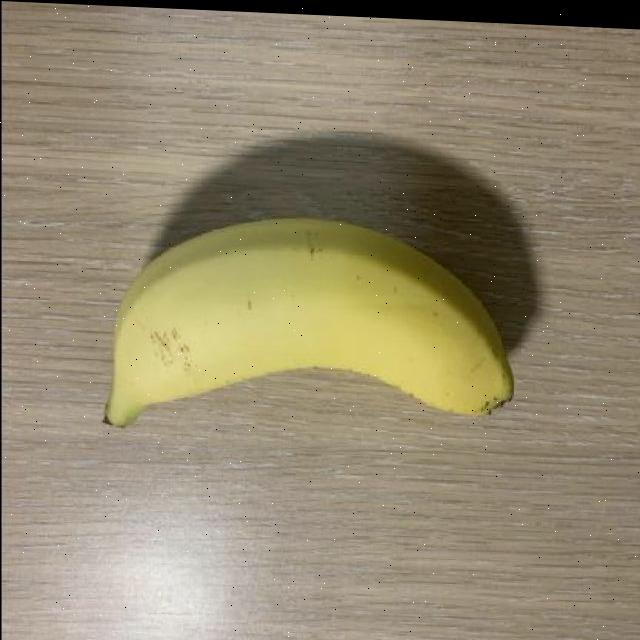banana: (100, 207, 514, 451)
